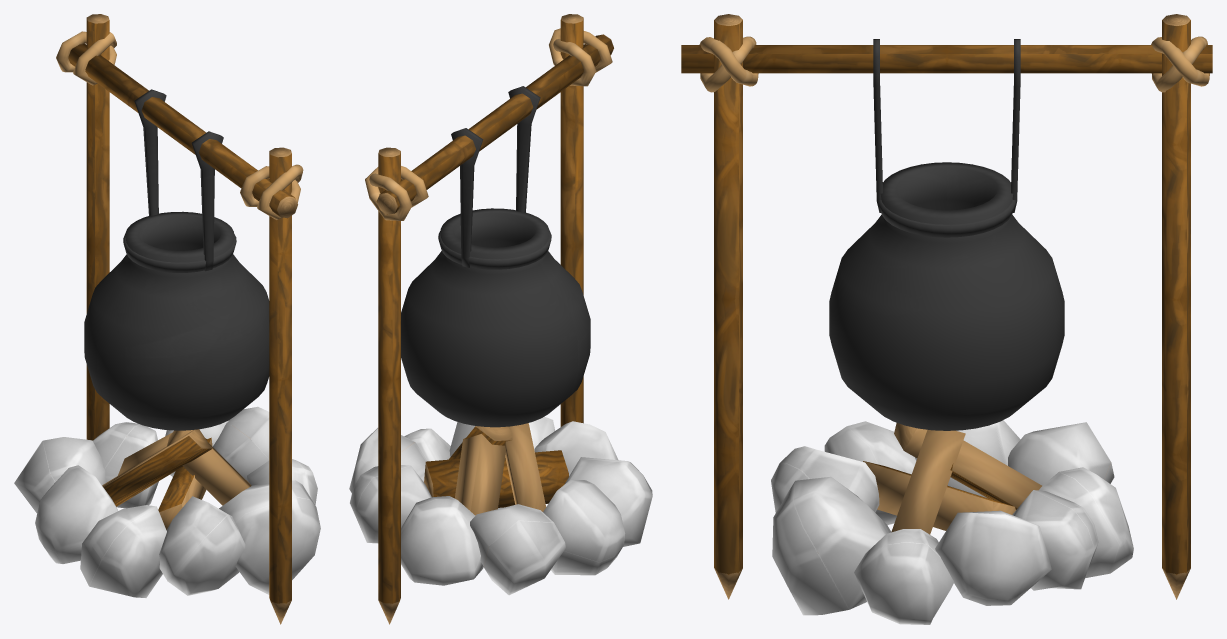
File: M_Campfire.fbx
The picture shows the model from 3 angles, left to right: view 1: azimuth 30°, elevation 25°; view 2: azimuth 150°, elevation 25°; view 3: azimuth 270°, elevation 25°; orthographic projection. The views are drawn at different scales.
Visible parts, largest first — view 1: Campfire_LOD0; view 2: Campfire_LOD0; view 3: Campfire_LOD0.
Boxes of the visible parts, x1=… form: Campfire_LOD0: x1=14, y1=14, x2=320, y2=624; Campfire_LOD0: x1=349, y1=14, x2=652, y2=624; Campfire_LOD0: x1=681, y1=14, x2=1212, y2=624.
Size of what is drawn, in the model's own units: 1.32 by 2.36 by 1.96.
